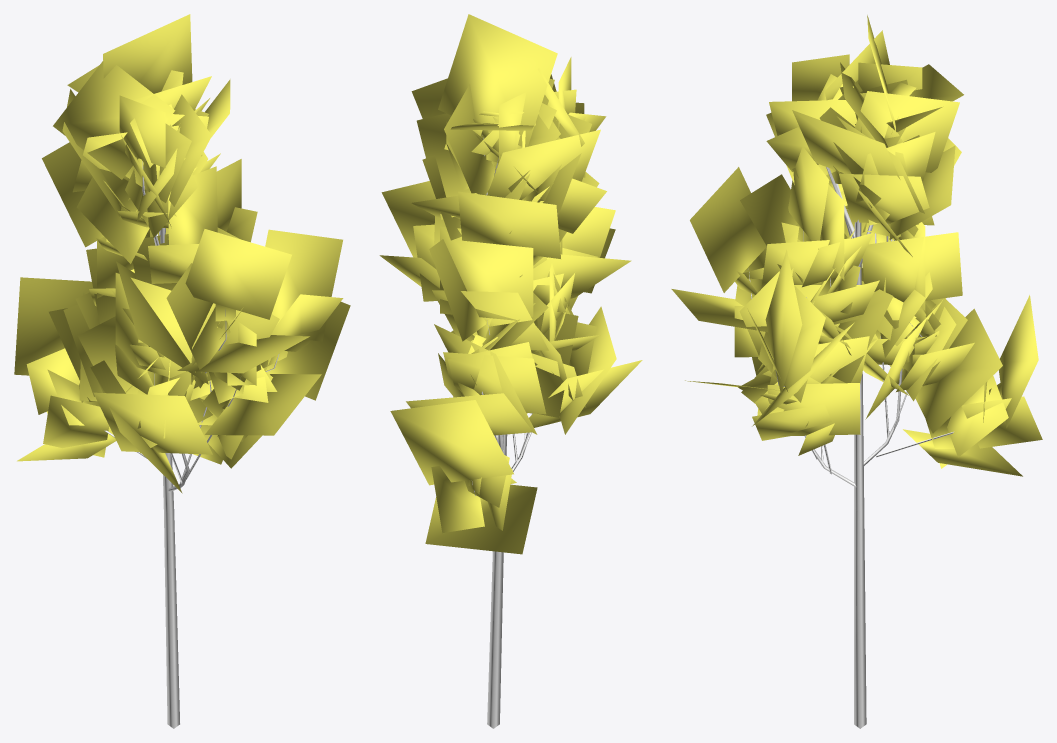
File: aspen_small_v1_lod2.glb
The picture shows the model from 3 angles, left to right: view 1: azimuth 30°, elevation 25°; view 2: azimuth 150°, elevation 25°; view 3: azimuth 270°, elevation 25°; orthographic projection.
Parts seen in each view (by area): view 1: Leaves, Branches; view 2: Leaves, Branches; view 3: Leaves, Branches.
Part boxes in pixels (left/top/right/bottom): Leaves: left=14, top=14, right=350, bottom=493; Branches: left=104, top=161, right=279, bottom=728; Leaves: left=379, top=14, right=642, bottom=554; Branches: left=472, top=135, right=532, bottom=728; Leaves: left=671, top=15, right=1042, bottom=476; Branches: left=748, top=167, right=953, bottom=728.
Size of the model in its own units: 14.81 by 39.17 by 18.92.
